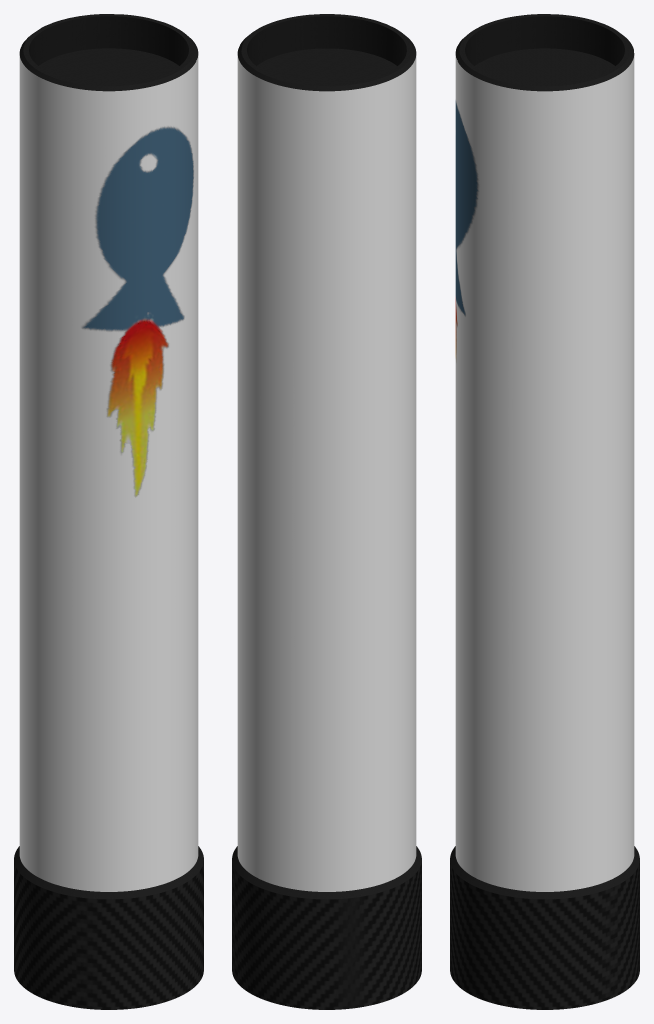
File: whalenew.glb
3 views of the same model, side by side, from view 1: azimuth 30°, elevation 25°; view 2: azimuth 150°, elevation 25°; view 3: azimuth 270°, elevation 25° (orthographic).
Bounding box in the file's own units: 0.0405 × 0.2169 × 0.0405.
8 materials, 7 textured.
